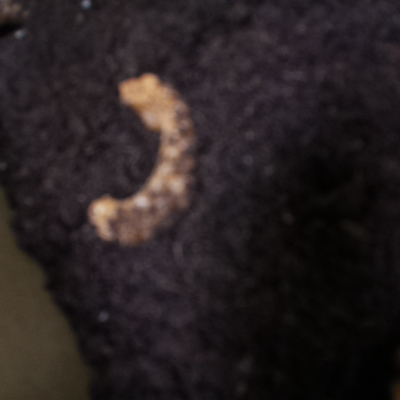eggs: (81, 63, 204, 255)
